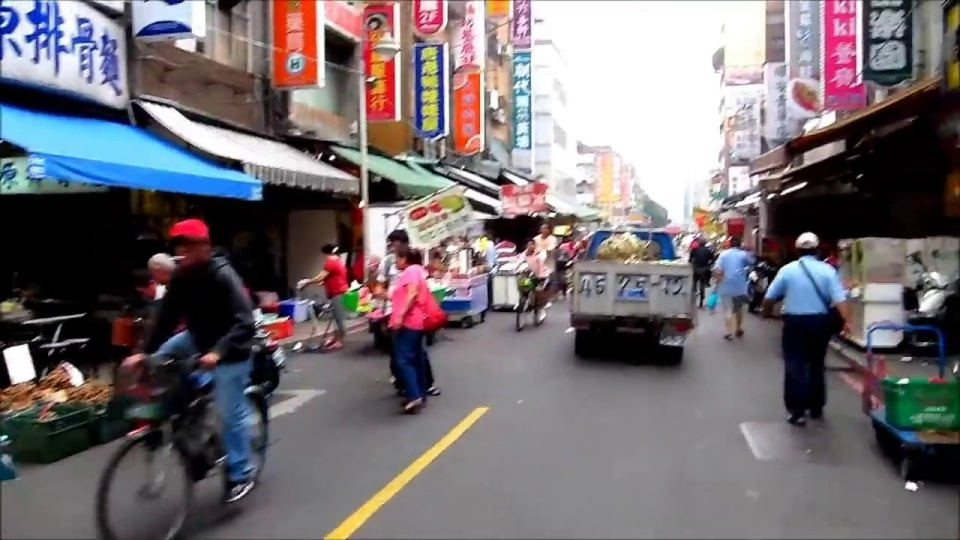person_head: (168, 218, 213, 263), (792, 226, 822, 259), (147, 252, 177, 282), (393, 249, 420, 270), (385, 231, 409, 252), (727, 235, 743, 249), (321, 245, 337, 257), (538, 224, 551, 234), (526, 240, 535, 250), (696, 239, 706, 246)
person_vbox: (126, 214, 272, 508), (762, 225, 852, 434), (373, 230, 443, 398), (387, 248, 435, 417), (295, 243, 349, 351), (711, 234, 756, 342), (510, 239, 549, 311), (531, 223, 558, 319), (682, 237, 714, 310)
